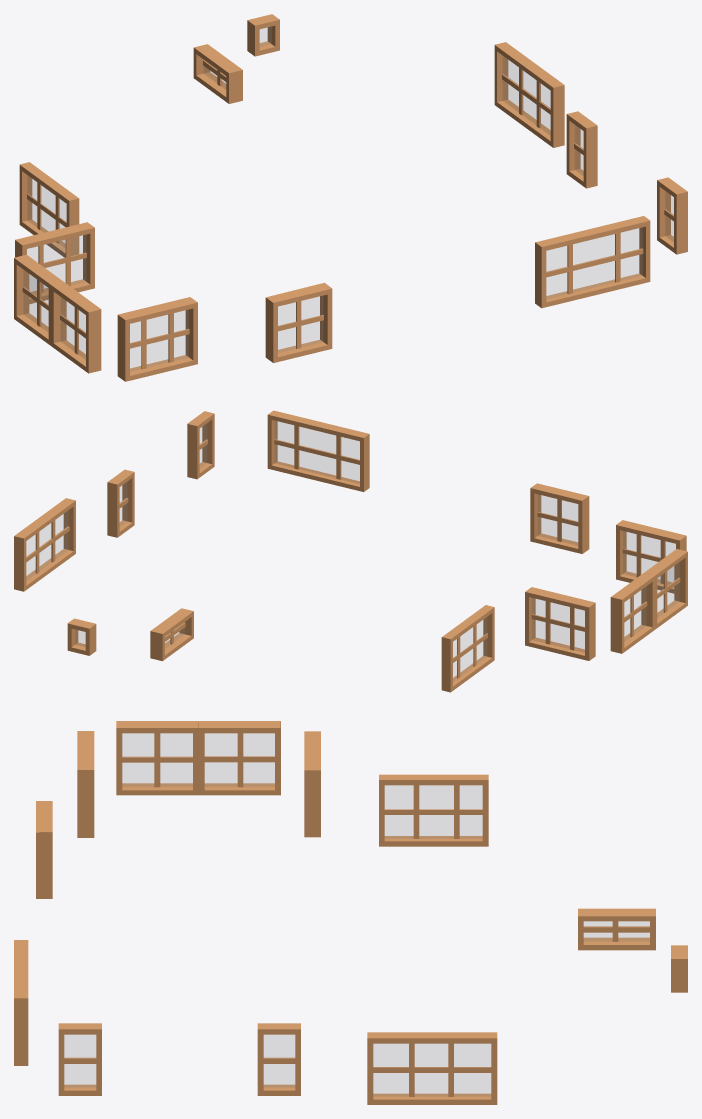
File: house_windows.fbx
3 views of the same model, one above another, from view 1: azimuth 30°, elevation 25°; view 2: azimuth 150°, elevation 25°; view 3: azimuth 270°, elevation 25° (orthographic). The views are drawn at different scales.
Parts seen in each view (by area): view 1: window_pane1, window_edge40 (×3), window_pane3, window_edge39 (×3), window_pane2, window_pane9, window_pane5, window_edge2, window_edge1, window_pane6, window_edge15, window_edge38 (+23 smaller); view 2: window_pane1, window_edge39 (×3), window_pane5, window_edge40 (×3), window_pane2, window_pane9, window_pane3, window_edge2, window_pane6, window_edge1, window_edge16, window_edge38 (+25 smaller); view 3: window_pane9 (×3), window_pane6, window_pane4, window_pane10, window_edge38, window_edge37, window_edge26, window_edge11, window_edge23, window_edge7, window_edge25, window_edge30 (+12 smaller).
Part boxes in pixels (<box>): window_pane1: <box>546,228,642,298</box>; window_edge40 (×3): <box>550,85,687,254</box>; window_pane3: <box>130,310,188,371</box>; window_edge39 (×3): <box>494,46,670,239</box>; window_pane2: <box>278,296,323,352</box>; window_pane9: <box>502,56,550,134</box>; window_pane5: <box>27,235,85,293</box>; window_edge2: <box>535,216,650,250</box>; window_edge1: <box>542,273,649,308</box>; window_pane6: <box>28,176,66,246</box>; window_edge15: <box>86,309,101,373</box>; window_edge38: <box>494,42,564,90</box>; window_pane1: <box>275,421,359,483</box>; window_edge39 (×3): <box>14,424,199,591</box>; window_pane5: <box>532,598,584,652</box>; window_edge40 (×3): <box>63,414,214,553</box>; window_pane2: <box>538,495,577,545</box>; window_pane9: <box>26,511,68,579</box>; window_pane3: <box>623,531,675,584</box>; window_edge2: <box>268,410,368,441</box>; window_pane6: <box>453,617,487,681</box>; window_edge1: <box>268,461,363,491</box>; window_edge16: <box>610,597,624,653</box>; window_edge38: <box>14,498,75,540</box>; window_pane9 (×3): <box>64,1035,490,1096</box>; window_pane6: <box>385,785,482,838</box>; window_pane4: <box>205,733,274,786</box>; window_pane10: <box>122,733,192,786</box>; window_edge38: <box>367,1032,497,1043</box>; window_edge37: <box>367,1093,496,1104</box>; window_edge26: <box>379,774,488,785</box>; window_edge11: <box>77,770,94,837</box>; window_edge23: <box>304,770,320,837</box>; window_edge7: <box>36,832,52,898</box>; window_edge25: <box>379,836,487,846</box>; window_edge30: <box>578,908,655,921</box>.
Size of the model in its own units: 1302 by 130 by 1168.
